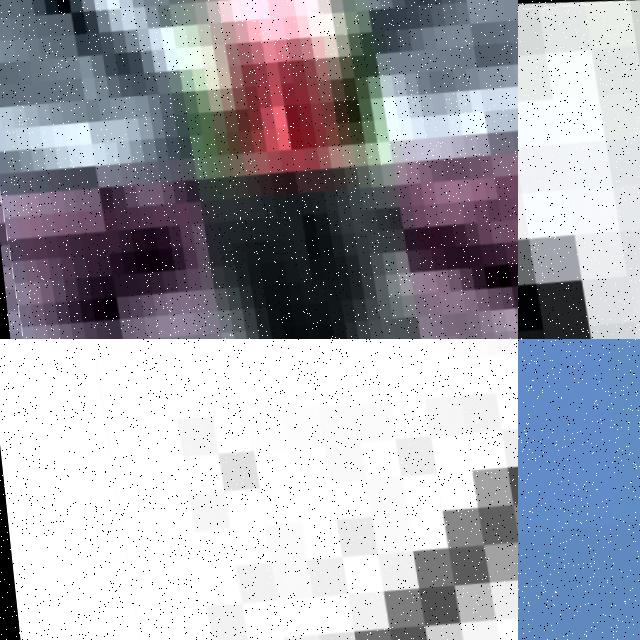drone: (0, 0, 518, 339), (0, 339, 518, 640), (518, 0, 640, 339)
